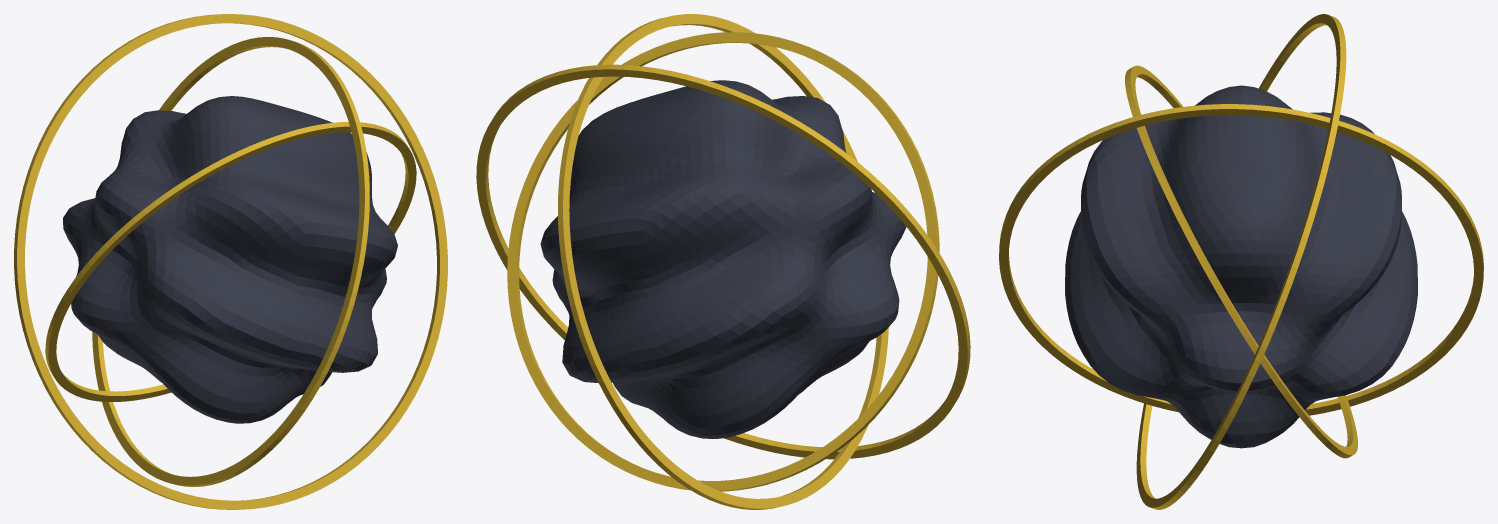
Rendered from gpu-artifact.glb.
3 renders of one model, left to right at view 1: azimuth 30°, elevation 25°; view 2: azimuth 150°, elevation 25°; view 3: azimuth 270°, elevation 25°, orthographic. The views are drawn at different scales.
Parts seen in each view (by area): view 1: storefront-catalog_obsidian_core, storefront-catalog_orbital_ring_2, storefront-catalog_orbital_ring_1, storefront-catalog_orbital_ring_0; view 2: storefront-catalog_obsidian_core, storefront-catalog_orbital_ring_0, storefront-catalog_orbital_ring_2, storefront-catalog_orbital_ring_1; view 3: storefront-catalog_obsidian_core, storefront-catalog_orbital_ring_1, storefront-catalog_orbital_ring_2, storefront-catalog_orbital_ring_0.
Boxes of the visible parts, bbox=[...] form: storefront-catalog_obsidian_core: bbox=[63, 96, 397, 423]; storefront-catalog_orbital_ring_2: bbox=[14, 14, 447, 509]; storefront-catalog_orbital_ring_1: bbox=[92, 37, 369, 486]; storefront-catalog_orbital_ring_0: bbox=[45, 122, 416, 401]; storefront-catalog_obsidian_core: bbox=[540, 80, 906, 438]; storefront-catalog_orbital_ring_0: bbox=[507, 32, 939, 491]; storefront-catalog_orbital_ring_2: bbox=[476, 64, 970, 459]; storefront-catalog_orbital_ring_1: bbox=[558, 14, 888, 509]; storefront-catalog_obsidian_core: bbox=[1065, 85, 1417, 448]; storefront-catalog_orbital_ring_1: bbox=[999, 104, 1483, 415]; storefront-catalog_orbital_ring_2: bbox=[1136, 14, 1346, 509]; storefront-catalog_orbital_ring_0: bbox=[1125, 65, 1357, 458].
Bounding box in the file's own units: 3.24 × 3 × 3.
